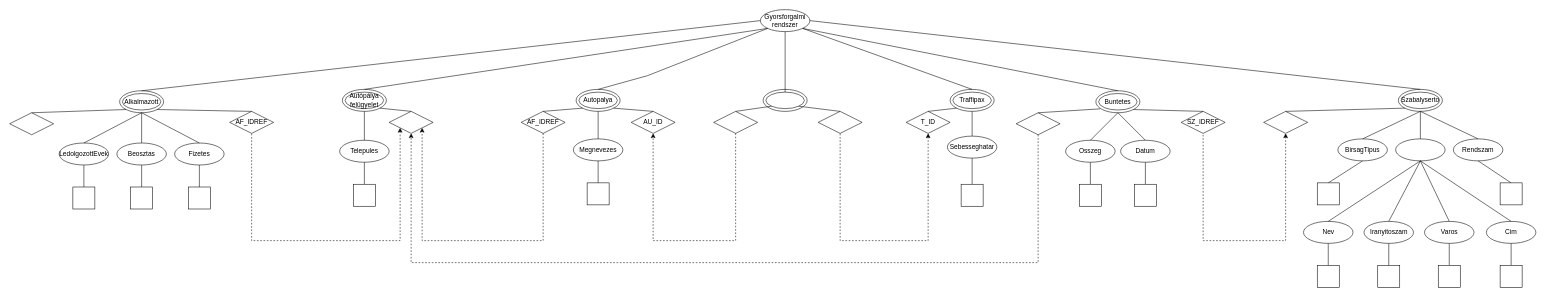
Some shapes in this 1546 by 297 pixel diagram are drawn without their labels. Each missing label, with the centre of its shape:
"A_ID" goes at pixel 31 123.
"AF_ID" goes at pixel 411 122.
"Au-T" goes at pixel 784 100.
"AU_IDREF" goes at pixel 735 122.
"B_ID" goes at pixel 1038 123.
"Elerhetoseg" goes at pixel 1420 149.
"SZ_ID" goes at pixel 1285 122.
"T_IDREF" goes at pixel 840 122.
